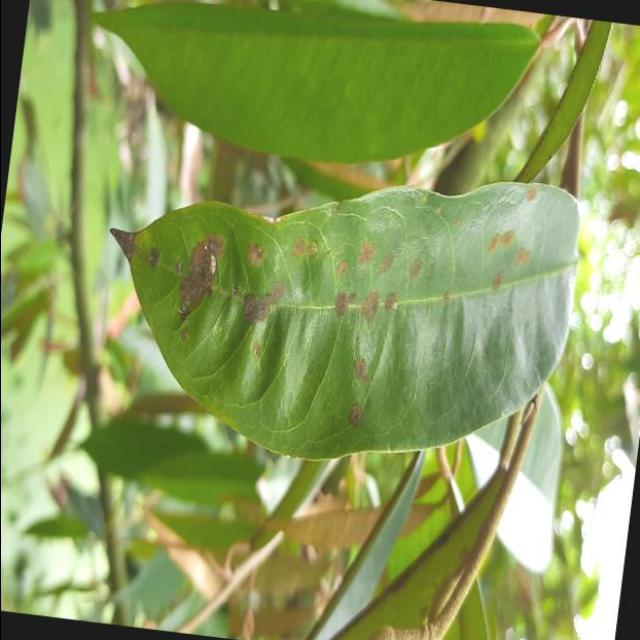Algal Leaf Spot: (74, 125, 598, 503)
